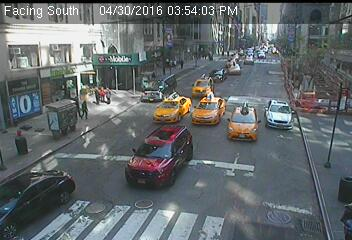neg: (231, 61, 296, 148), (20, 109, 46, 144), (4, 122, 29, 155), (128, 80, 140, 96), (126, 45, 137, 61)
pos: (75, 96, 95, 123), (100, 86, 115, 105), (176, 55, 188, 72)
